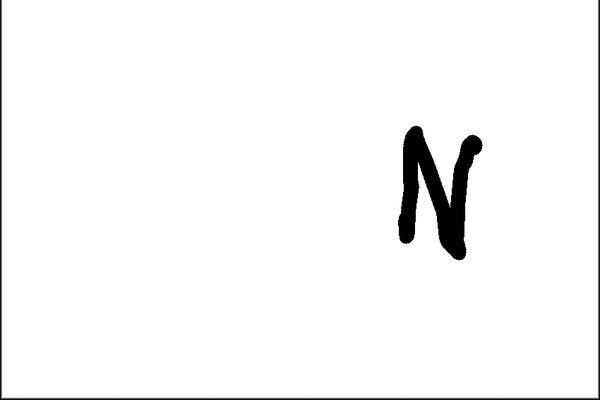N: (394, 122, 486, 264)
